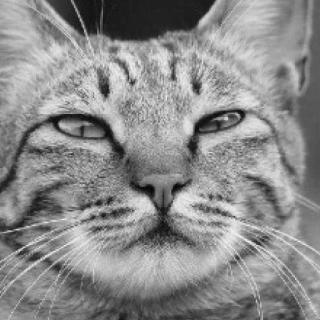cat: (0, 0, 319, 294)
nose: (130, 148, 198, 224)
